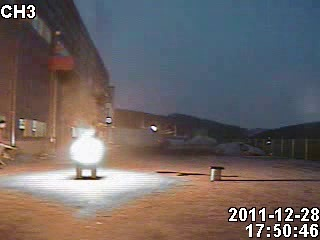fire: (65, 119, 102, 165)
